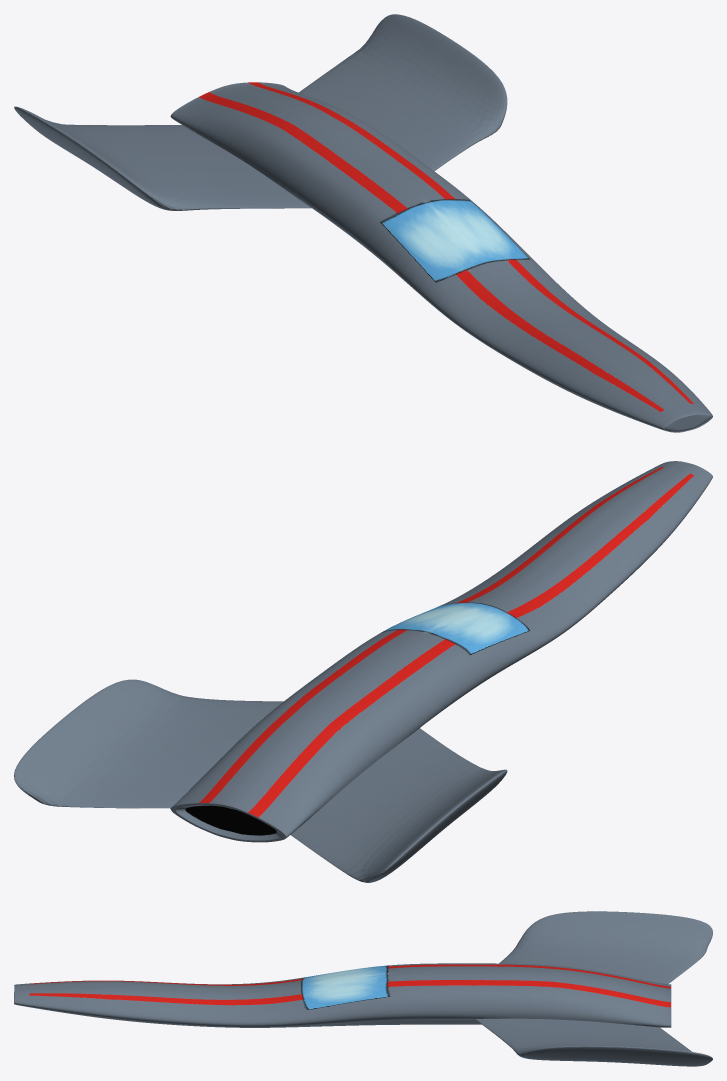
The model's file is spaceship.obj.
3 views of the same model, one above another, from view 1: azimuth 30°, elevation 25°; view 2: azimuth 150°, elevation 25°; view 3: azimuth 270°, elevation 25° (orthographic). The views are drawn at different scales.
Visible parts, largest first — view 1: Spaceship_Plane; view 2: Spaceship_Plane; view 3: Spaceship_Plane.
Part boxes in pixels (box(x1,y1,x2,y2)): Spaceship_Plane: box(14, 14, 712, 432); Spaceship_Plane: box(14, 461, 712, 882); Spaceship_Plane: box(14, 911, 712, 1066).
Size of the model in its own units: 7.98 by 1.33 by 17.43.
Materials: 1 (1 with a texture image).
